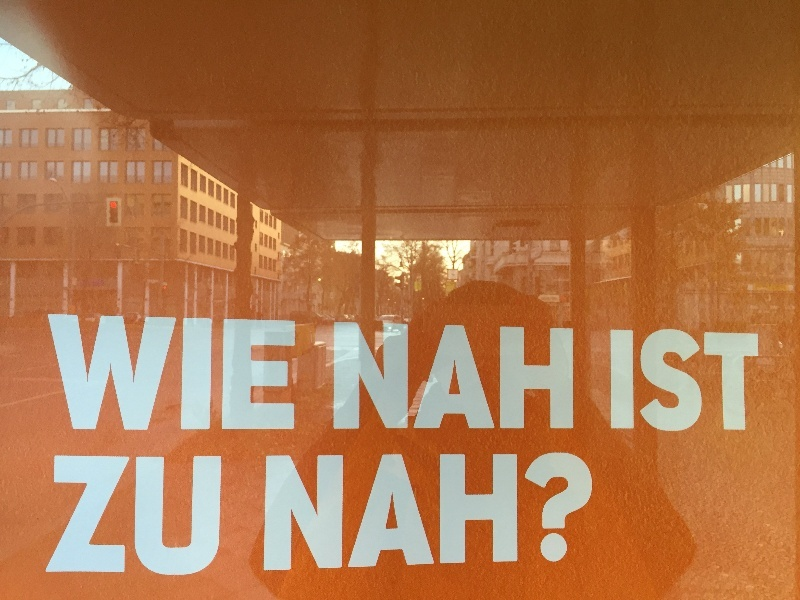text: (65, 456, 80, 576), (81, 456, 96, 576), (97, 456, 112, 576), (113, 456, 128, 576), (129, 456, 144, 576), (145, 456, 160, 576), (161, 456, 176, 576), (177, 456, 192, 576), (193, 456, 208, 576), (273, 453, 288, 573), (289, 453, 304, 573), (305, 453, 320, 573), (321, 453, 336, 573), (337, 453, 352, 573), (353, 453, 368, 573), (369, 453, 384, 573), (385, 453, 400, 573), (401, 453, 416, 573), (417, 453, 432, 573), (433, 453, 448, 573), (449, 453, 464, 573), (465, 453, 480, 573), (481, 453, 496, 573), (497, 453, 512, 573), (513, 453, 528, 573), (529, 453, 544, 573), (545, 453, 560, 573), (561, 453, 576, 573), (577, 453, 592, 573), (49, 314, 64, 432), (65, 314, 80, 432), (81, 314, 96, 432), (97, 314, 112, 432), (113, 314, 128, 432), (129, 314, 144, 432), (145, 314, 160, 432), (161, 314, 176, 432), (177, 314, 192, 432), (193, 314, 208, 432), (209, 314, 224, 432), (225, 314, 240, 432), (241, 314, 256, 432), (257, 314, 272, 432), (273, 314, 288, 432), (209, 456, 223, 576), (337, 323, 352, 432), (353, 323, 368, 432), (369, 323, 384, 432), (385, 323, 400, 432), (401, 323, 416, 432), (417, 323, 432, 432), (433, 323, 448, 432), (449, 323, 464, 432), (465, 323, 480, 432), (481, 323, 496, 432), (497, 323, 512, 432), (513, 323, 528, 432), (529, 323, 544, 432), (545, 323, 560, 432), (625, 330, 640, 432), (641, 330, 656, 432), (657, 330, 672, 432), (673, 330, 688, 432), (689, 330, 704, 432), (705, 330, 720, 432), (721, 330, 736, 432), (737, 330, 752, 432), (561, 323, 575, 432), (611, 330, 624, 432), (54, 456, 64, 576), (753, 330, 763, 432), (265, 453, 272, 573), (289, 314, 296, 432), (334, 323, 336, 432), (593, 453, 594, 573)
